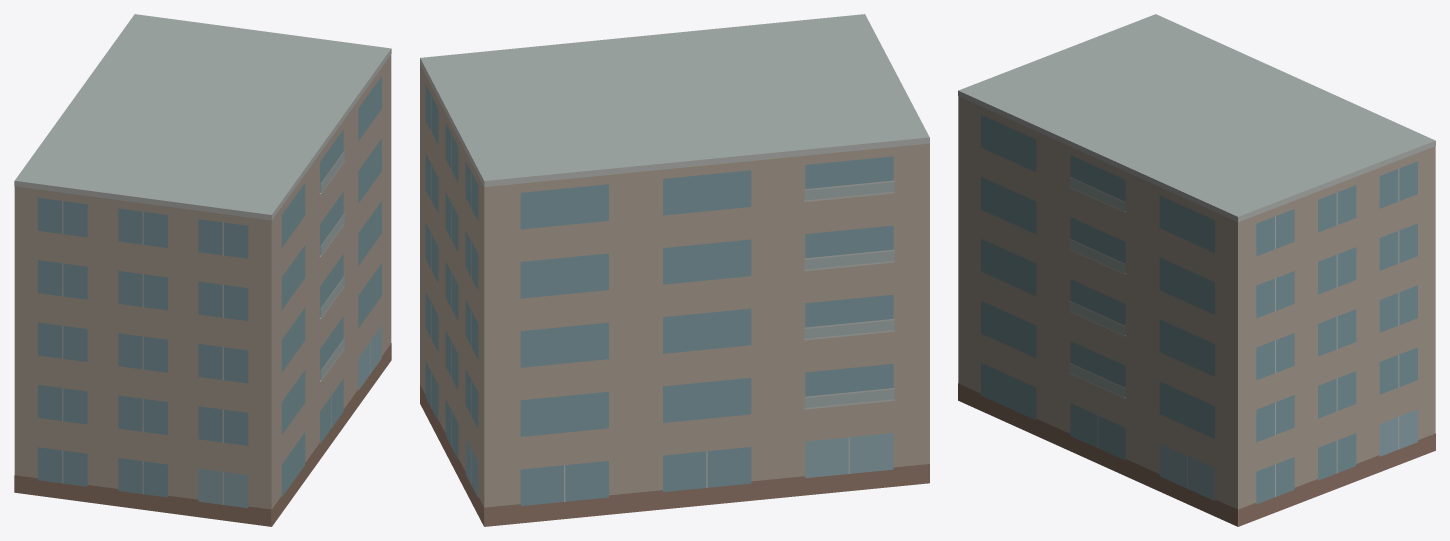
Rendered from survey-upis-32655858.glb.
The picture shows the model from 3 angles, left to right: view 1: azimuth 30°, elevation 25°; view 2: azimuth 150°, elevation 25°; view 3: azimuth 270°, elevation 25°; orthographic projection. The views are drawn at different scales.
Visible parts, largest first — view 1: survey-upis-32655858.tmp; view 2: survey-upis-32655858.tmp; view 3: survey-upis-32655858.tmp.
Boxes of the visible parts, x1,y1,x2,y2 form: survey-upis-32655858.tmp: (14, 14, 391, 526); survey-upis-32655858.tmp: (420, 14, 929, 526); survey-upis-32655858.tmp: (958, 14, 1435, 526).
Bounding box in the file's own units: 19.59 × 13.95 × 19.49.
